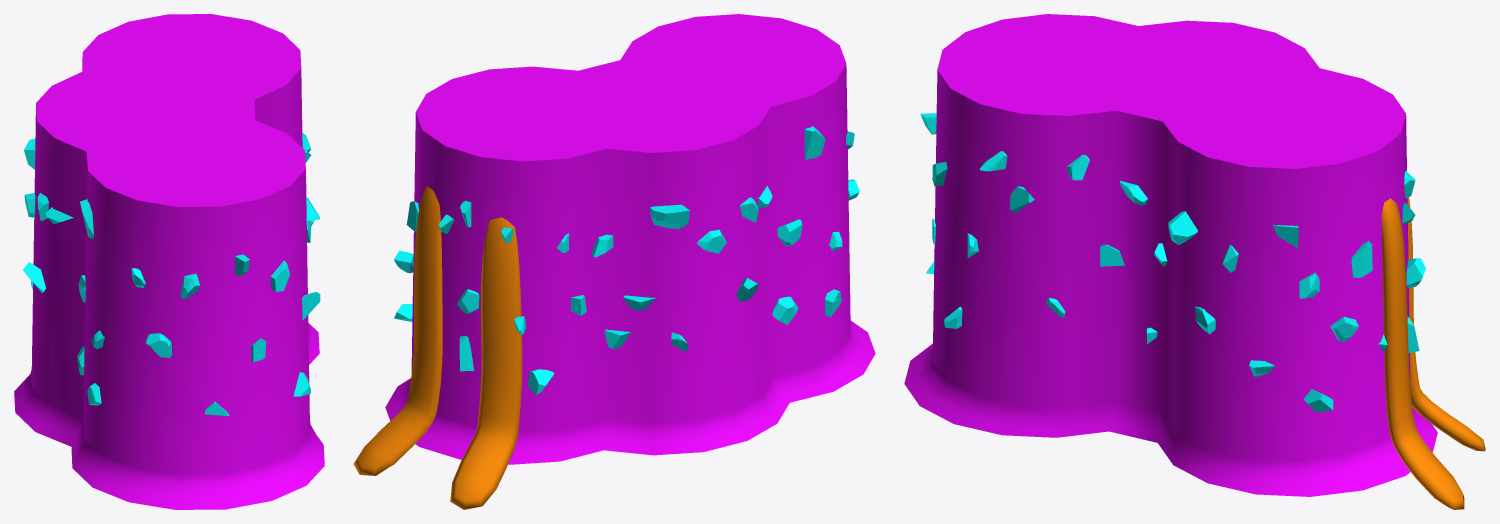
The model's file is Pilar LP 1.fbx.
3 renders of one model, left to right at view 1: azimuth 30°, elevation 25°; view 2: azimuth 150°, elevation 25°; view 3: azimuth 270°, elevation 25°, orthographic. The views are drawn at different scales.
Parts seen in each view (by area): view 1: Pilar LP 1; view 2: Pilar LP 1; view 3: Pilar LP 1.
Boxes of the visible parts, <box> form: Pilar LP 1: <box>14,14,324,509</box>; Pilar LP 1: <box>353,14,875,509</box>; Pilar LP 1: <box>904,14,1485,509</box>.
Bounding box in the file's own units: 693 × 632 × 960.
